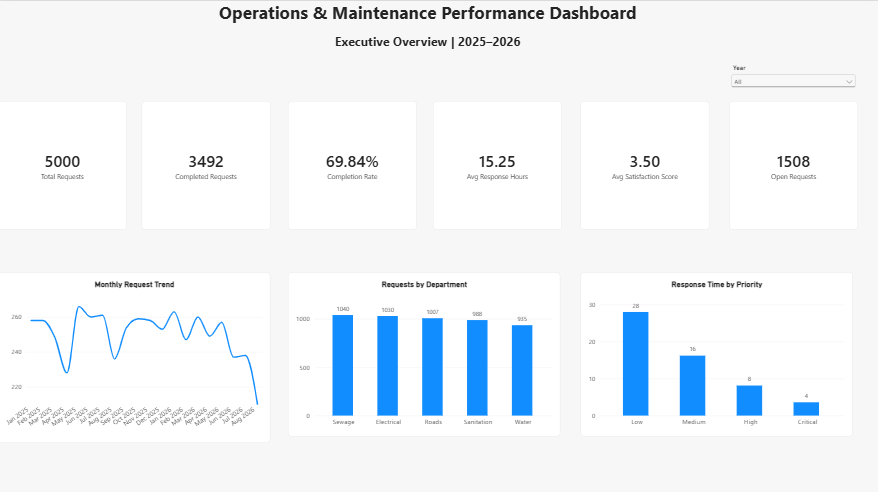

The page's visual inventory and layout, read from the dashboard file:
{"tool":"powerbi","page":{"name":"Executive Overview","canvas":[1920,1080],"ordinal":0},"visuals":[{"type":"card","fields":{"Values":["Maintenance_Requests.Total Requests"]},"box":[0,217.2,280,280],"z":0},{"type":"card","fields":{"Values":["Maintenance_Requests.Completed Requests"]},"box":[311.3,217.2,280,280],"z":1000},{"type":"card","fields":{"Values":["Maintenance_Requests.Completion Rate"]},"box":[629.8,217.2,280,280],"z":2000},{"type":"card","fields":{"Values":["Maintenance_Requests.Avg Response Hours"]},"box":[946.5,217.2,280,280],"z":3000},{"type":"card","fields":{"Values":["Maintenance_Requests.Avg Satisfaction Score"]},"box":[1266.8,217.2,280,280],"z":4000},{"type":"card","fields":{"Values":["Maintenance_Requests.Open Requests"]},"box":[1590.7,217.2,280,280],"z":5000},{"type":"clusteredColumnChart","title":"Requests by Department","fields":{"Category":["Maintenance_Requests.Department"],"Y":["Maintenance_Requests.Total Requests"]},"box":[629.8,589.9,591.8,356.5],"z":6000},{"type":"clusteredColumnChart","title":"Response Time by Priority","fields":{"Category":["Maintenance_Requests.Priority"],"Y":["Maintenance_Requests.Avg Response Hours"]},"box":[1266.8,589.9,591.8,356.5],"z":7000},{"type":"lineChart","title":"Monthly Request Trend","fields":{"Category":["DateTable.MonthYear"],"Y":["Maintenance_Requests.Total Requests"]},"box":[0,589.9,591.8,371],"z":8000},{"type":"textbox","box":[0,0,1869.4,114],"z":9000},{"type":"slicer","fields":{"Values":["DateTable.Year"]},"box":[1590.6,136.3,279.2,80.1],"z":9001}]}

Visuals, with their boxes in screenshot pixels (x1, y1, x2, y2), scaled from the page's 1920x1080 canvas onto the 878x492 screenshot:
card - Maintenance_Requests.Total Requests: 0 99 128 227
card - Maintenance_Requests.Completed Requests: 142 99 270 227
card - Maintenance_Requests.Completion Rate: 288 99 416 227
card - Maintenance_Requests.Avg Response Hours: 433 99 561 227
card - Maintenance_Requests.Avg Satisfaction Score: 579 99 707 227
card - Maintenance_Requests.Open Requests: 727 99 855 227
"Requests by Department" clusteredColumnChart: 288 269 559 431
"Response Time by Priority" clusteredColumnChart: 579 269 850 431
"Monthly Request Trend" lineChart: 0 269 271 438
textbox: 0 0 855 52
slicer - DateTable.Year: 727 62 855 99
